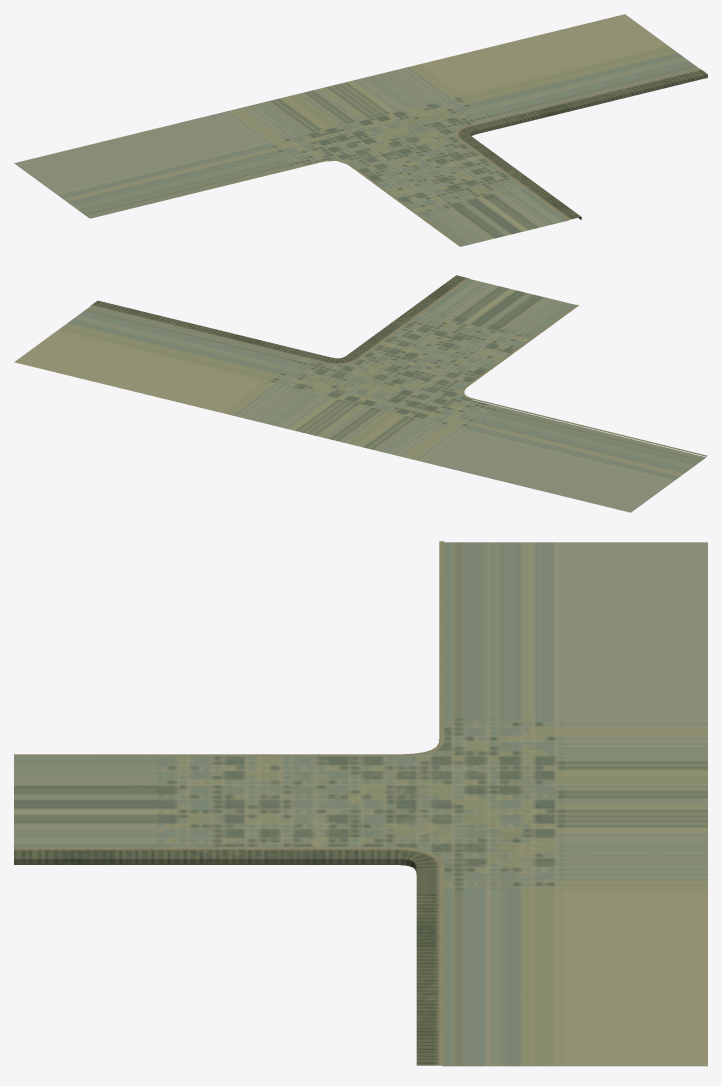
The model's file is objects_un_t07tile01.gltf.
The picture shows the model from 3 angles, top to bottom: view 1: azimuth 30°, elevation 25°; view 2: azimuth 150°, elevation 25°; view 3: azimuth 270°, elevation 25°; orthographic projection. The views are drawn at different scales.
Visible parts, largest first — view 1: objects_un_t07tile01; view 2: objects_un_t07tile01; view 3: objects_un_t07tile01.
Boxes of the visible parts, x1,y1,x2,y2 form: objects_un_t07tile01: (14,14,707,246); objects_un_t07tile01: (14,275,707,512); objects_un_t07tile01: (14,541,707,1066).
Size of the model in its own units: 12 by 0.066 by 6.71.
2 materials, 2 textured.
